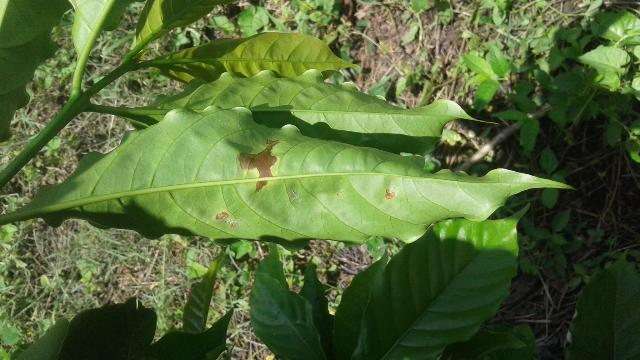red_spider_mite: (22, 100, 589, 248)
